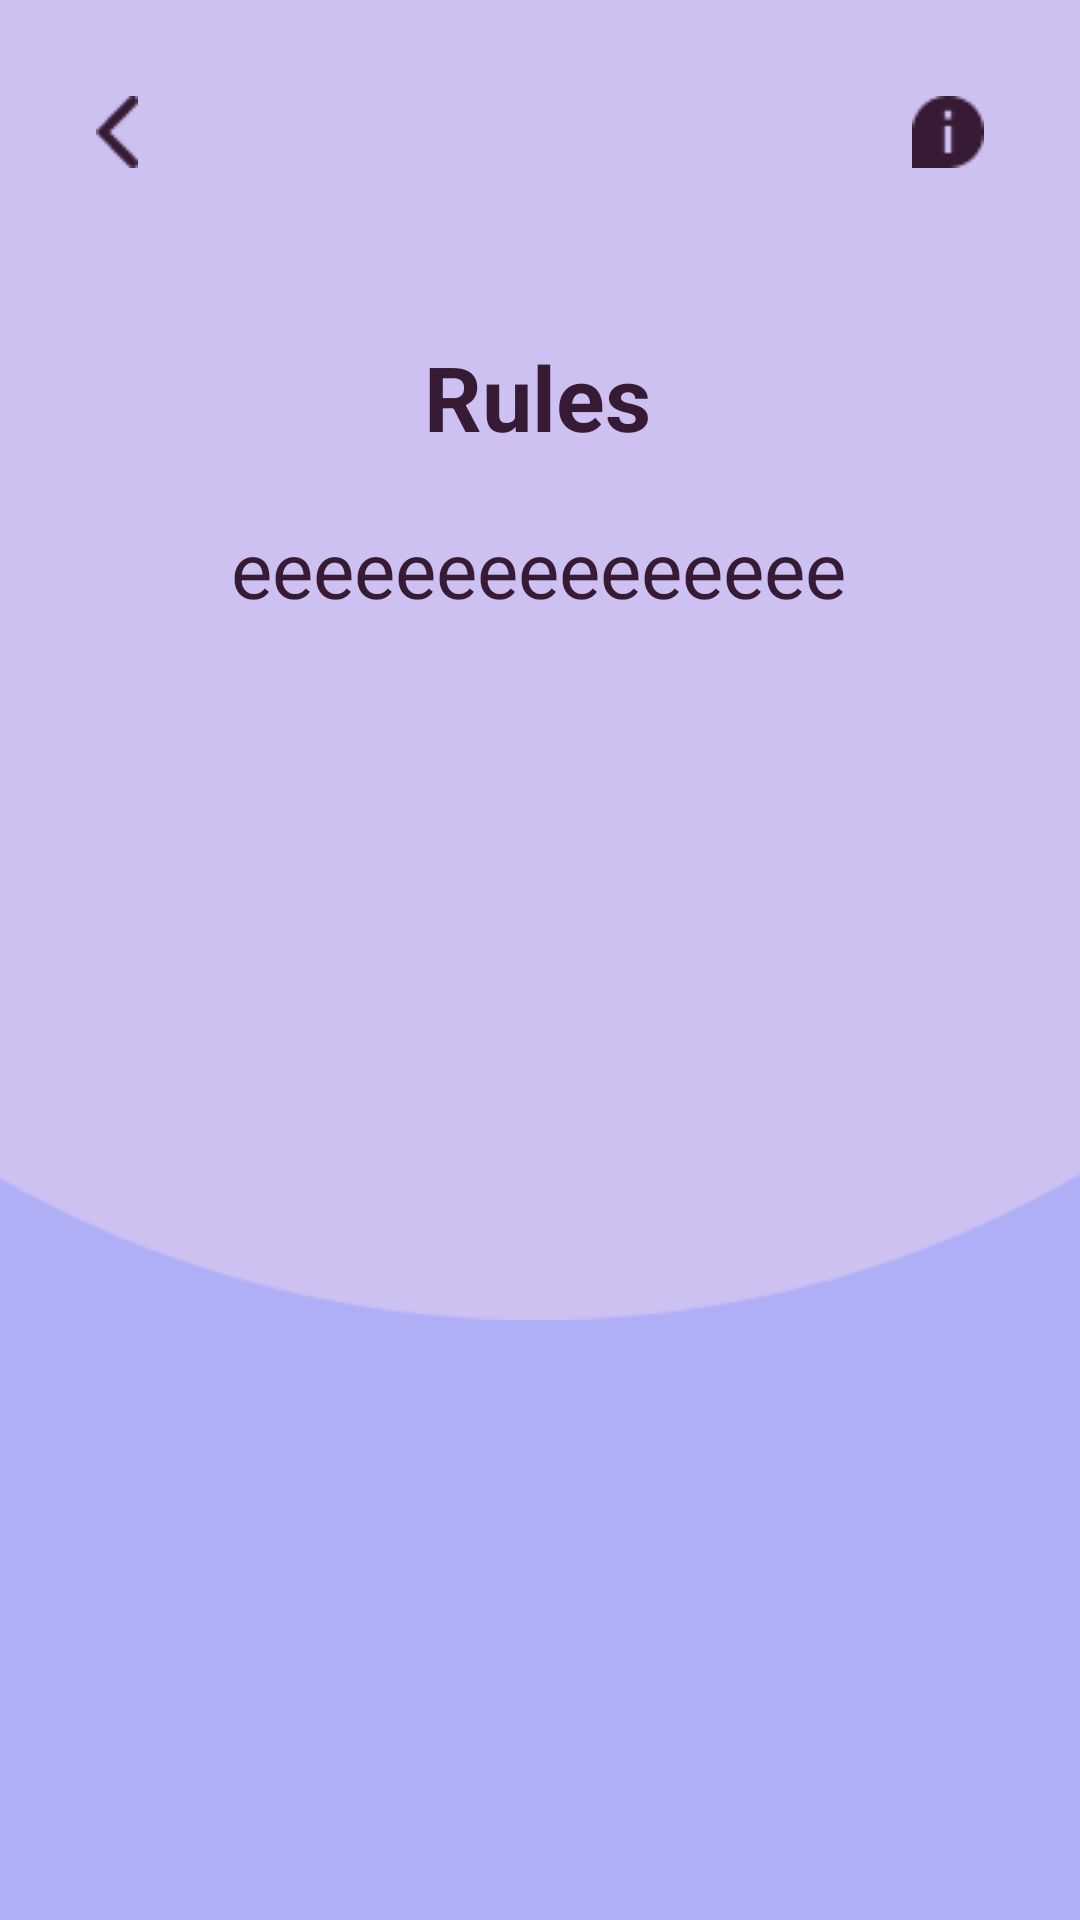

Icon click points for this 1080w x 1920h phone screenshot, format (x=x, y=y):
back: (x=117, y=132)
info: (x=948, y=132)
